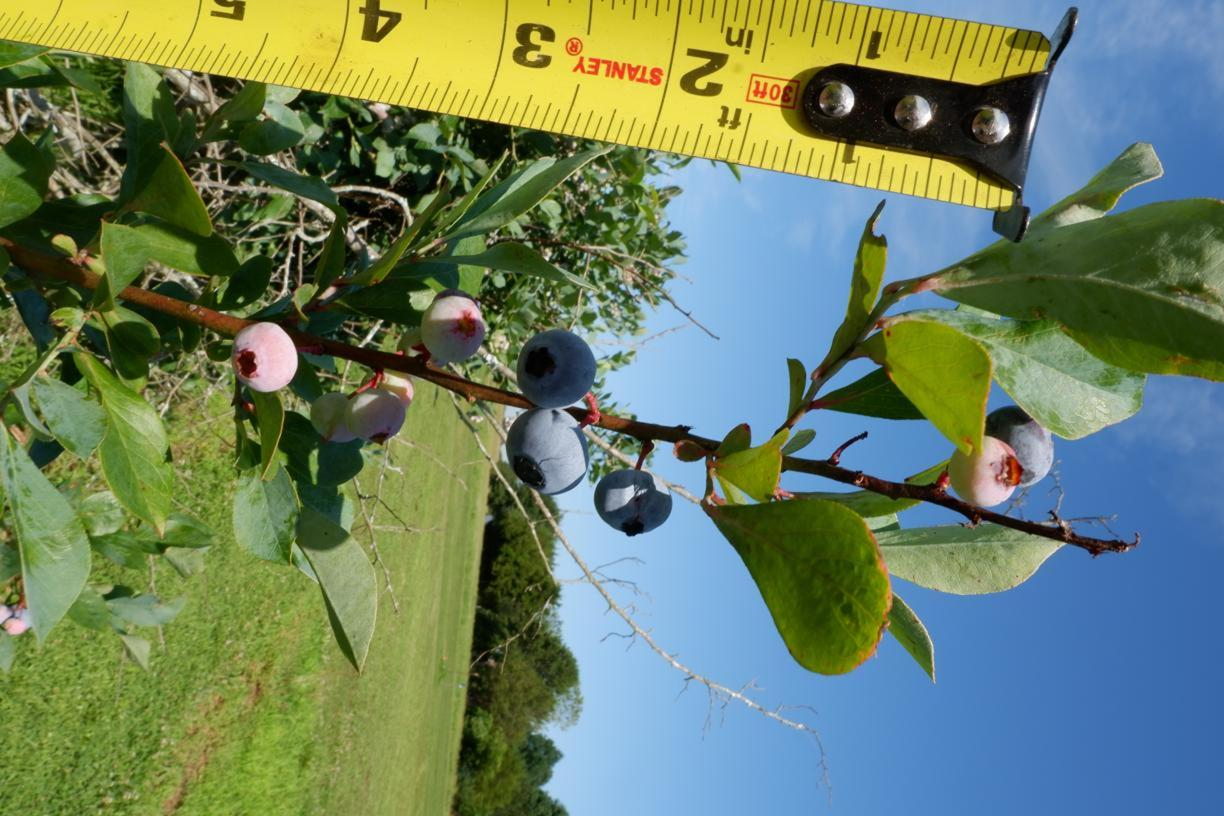Immature: (948, 434, 1024, 507), (231, 323, 298, 391), (420, 297, 485, 361), (344, 389, 406, 445), (359, 368, 415, 412), (310, 392, 355, 443), (396, 329, 448, 367), (430, 289, 475, 304)
Mature: (504, 407, 590, 498), (517, 329, 596, 408), (984, 405, 1053, 487), (594, 469, 673, 534)
